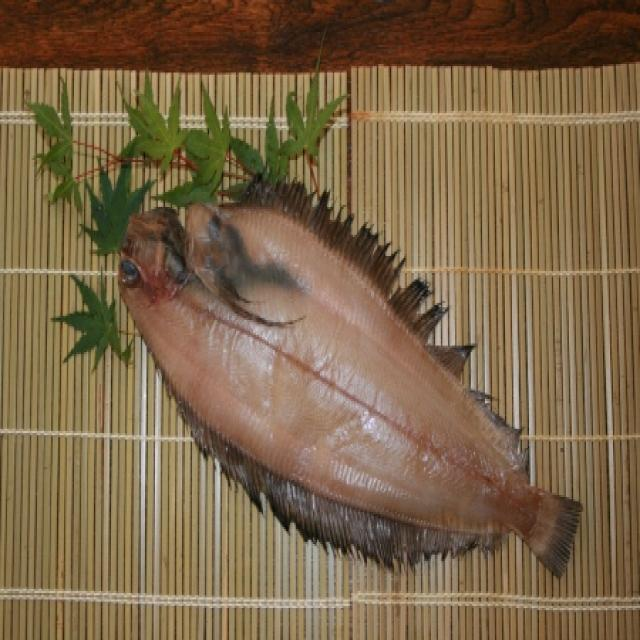熟制海鲜: (115, 164, 586, 587)
